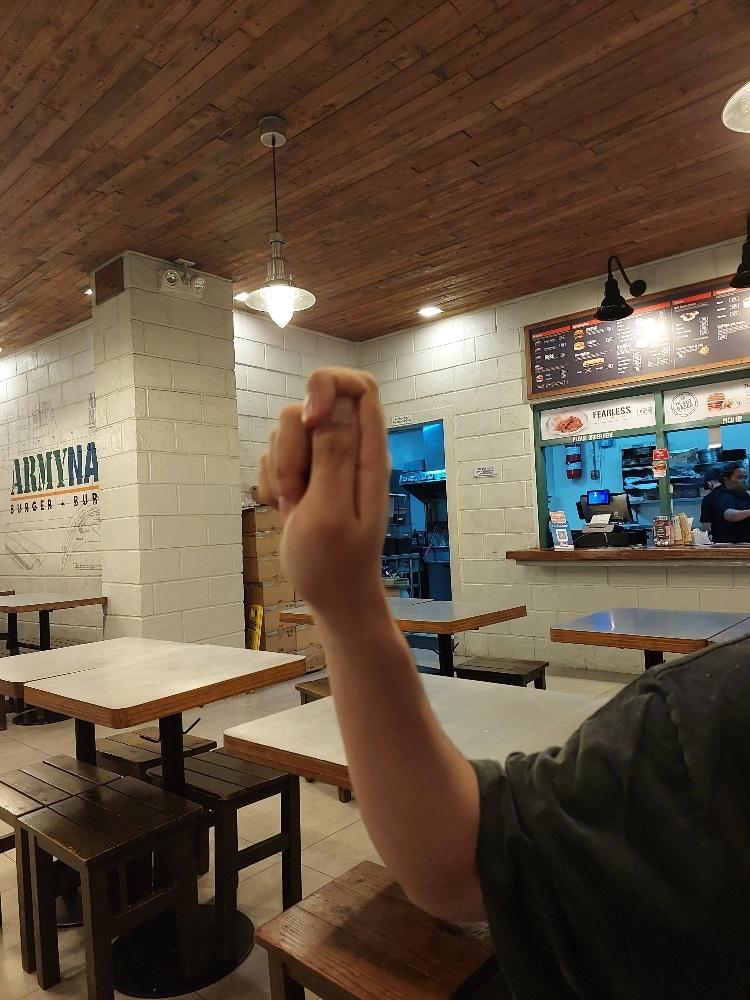t: (250, 363, 392, 608)
